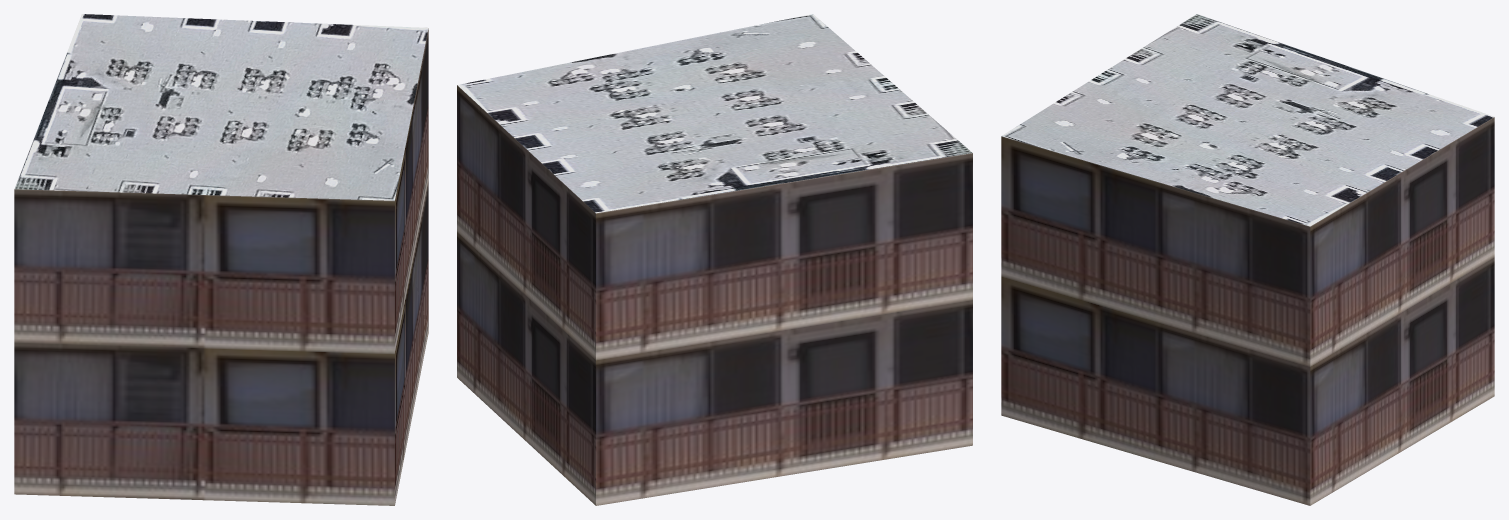
The model's file is ResTex__2708.fbx.
The picture shows the model from 3 angles, left to right: view 1: azimuth 30°, elevation 25°; view 2: azimuth 150°, elevation 25°; view 3: azimuth 270°, elevation 25°; orthographic projection. The views are drawn at different scales.
Visible parts, largest first — view 1: CityEngineMaterial_6_m, CityEngineMaterial_4_m; view 2: CityEngineMaterial_6_m, CityEngineMaterial_4_m; view 3: CityEngineMaterial_6_m, CityEngineMaterial_4_m.
Boxes of the visible parts, box(x1,y1,x2,y2) form: CityEngineMaterial_6_m: box(14, 28, 428, 505); CityEngineMaterial_4_m: box(14, 14, 428, 200); CityEngineMaterial_6_m: box(457, 85, 972, 505); CityEngineMaterial_4_m: box(457, 14, 972, 213); CityEngineMaterial_6_m: box(1001, 117, 1494, 505); CityEngineMaterial_4_m: box(1001, 14, 1494, 226).
Size of the model in its own units: 9.79 by 6 by 9.61.
Materials: 2 (2 with a texture image).
